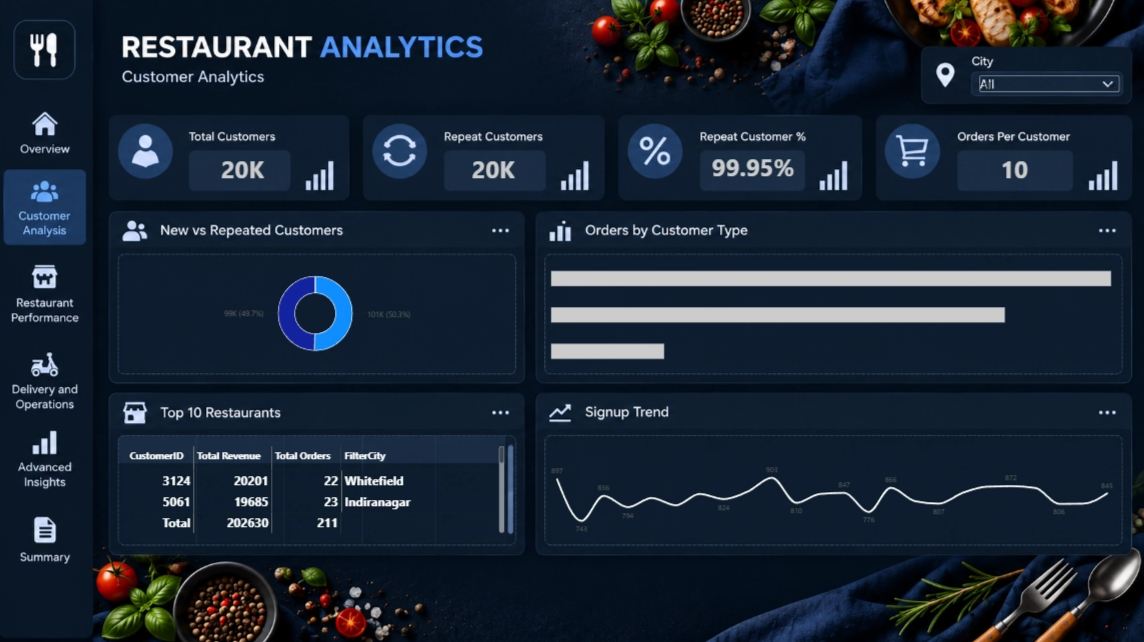

What the dashboard file says about the page in this screenshot:
{"tool":"powerbi","page":{"name":"CUSTOMER ANALYTICS","canvas":[1920,1080],"ordinal":1},"visuals":[{"type":"cardVisual","title":"Total Customers","fields":{"Data":["Orders.Total Customers"]},"box":[327.1,256.2,170,60],"z":0},{"type":"cardVisual","title":"Repeat Customer","fields":{"Data":["Orders.Repeat Customers"]},"box":[750,256.2,160.4,60.4],"z":1000},{"type":"cardVisual","title":"Repeat Customer %","fields":{"Data":["Orders.Repeat Customer %"]},"box":[1177.1,250,172,66],"z":2000},{"type":"cardVisual","title":"Orders Per Customer","fields":{"Data":["Orders.Orders Per Customer"]},"box":[1610.4,256.2,176,60],"z":3000},{"type":"barChart","title":"Orders by Customer Type","fields":{"Category":["Customers.CustomerType"],"Y":["Orders.Total Orders"]},"box":[910.4,435.4,970.8,189.6],"z":4000},{"type":"lineChart","title":"Signup Trend","fields":{"Category":["Customers.SignupDate.Variation.Date Hierarchy.Year","Customers.SignupDate.Variation.Date Hierarchy.Month"],"Y":["Orders.Total Customers"]},"box":[910.4,735.4,968.8,175],"z":5000},{"type":"donutChart","title":"New vs Repeated Customers","fields":{"Category":["Customers.RepeatedVSNew"],"Y":["Orders.Total Orders"]},"box":[202.1,435.4,662.5,187.5],"z":6000},{"type":"tableEx","title":"Top 10 Restaurants","fields":{"Values":["Customers.CustomerID","Orders.Total Revenue","Orders.Total Orders","Customers.FilterCity"]},"box":[202.1,735.4,662.5,175],"z":7000},{"type":"slicer","title":"Order status breakdown","fields":{"Values":["Customers.FilterCity"]},"box":[1635.4,127.1,243.8,35.4],"z":8000}]}

Visuals, with their boxes on the page's 1920x1080 design canvas (x1, y1, x2, y2). These are canvas units, not pixel positions in the 1144x642 screenshot, which may show the page scaled, cropped or inside an application window:
"Total Customers" cardVisual: select_region(327, 256, 497, 316)
"Repeat Customer" cardVisual: select_region(750, 256, 910, 317)
"Repeat Customer %" cardVisual: select_region(1177, 250, 1349, 316)
"Orders Per Customer" cardVisual: select_region(1610, 256, 1786, 316)
"Orders by Customer Type" barChart: select_region(910, 435, 1881, 625)
"Signup Trend" lineChart: select_region(910, 735, 1879, 910)
"New vs Repeated Customers" donutChart: select_region(202, 435, 865, 623)
"Top 10 Restaurants" tableEx: select_region(202, 735, 865, 910)
"Order status breakdown" slicer: select_region(1635, 127, 1879, 162)
